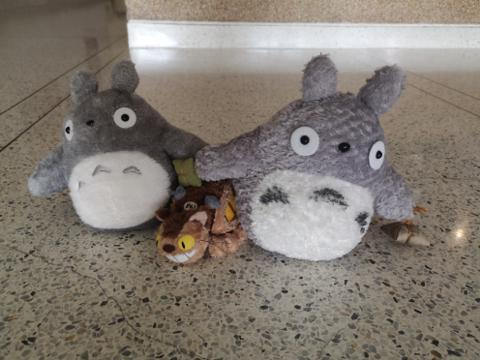nekobus: (151, 175, 244, 274)
totoro: (199, 52, 434, 266), (27, 57, 196, 234)
